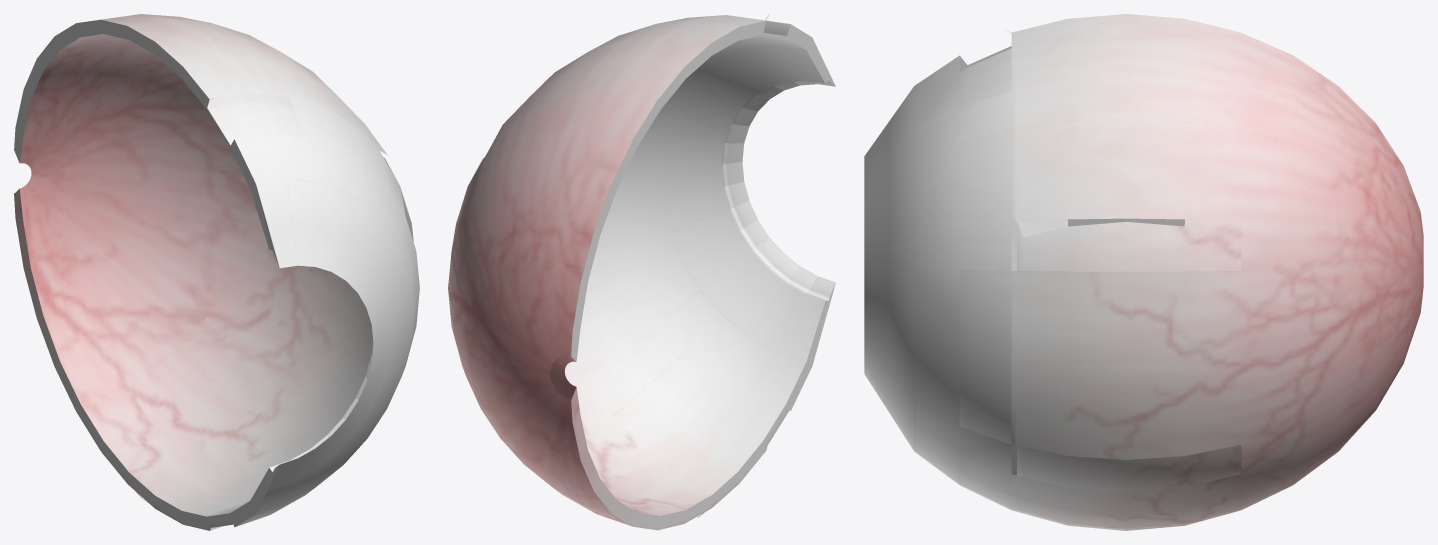
File: Esclerótica2.FBX
3 views of the same model, side by side, from view 1: azimuth 30°, elevation 25°; view 2: azimuth 150°, elevation 25°; view 3: azimuth 270°, elevation 25° (orthographic). The views are drawn at different scales.
Parts seen in each view (by area): view 1: Sclera Left; view 2: Sclera Left; view 3: Sclera Left.
Boxes of the visible parts, box(x1,y1,x2,y2) form: Sclera Left: box(14, 14, 419, 530); Sclera Left: box(448, 14, 835, 530); Sclera Left: box(864, 14, 1423, 530).
Bounding box in the file's own units: 0.3948 × 0.7894 × 0.8138.
Materials: 1 (1 with a texture image).
